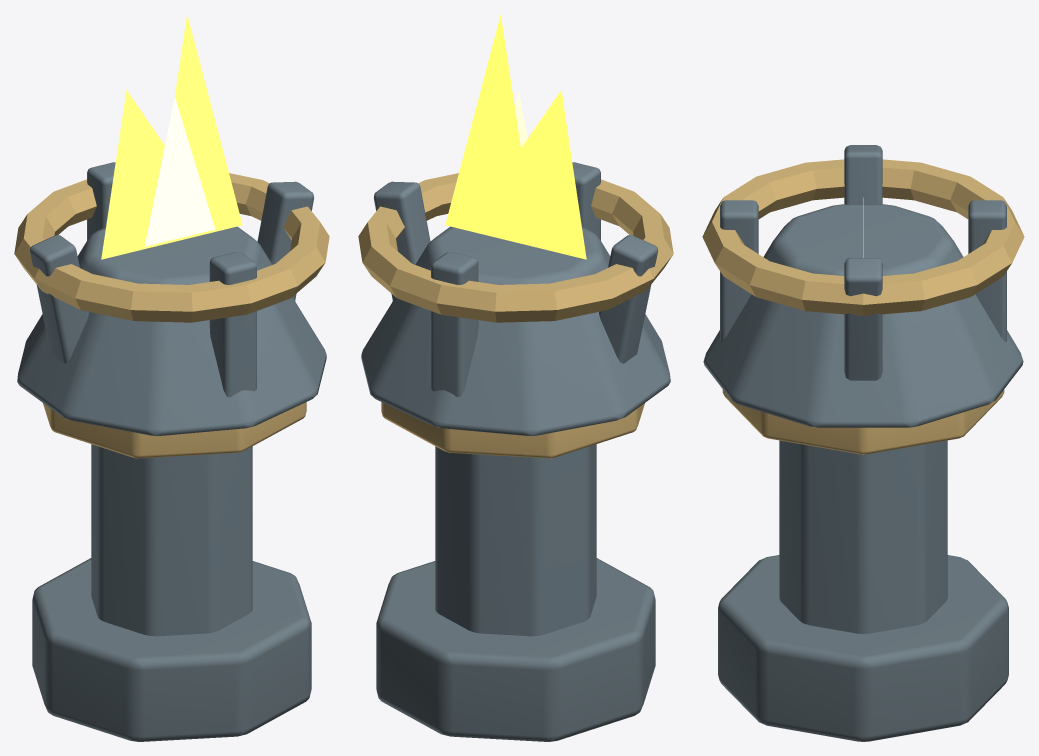
The model's file is SM_CampBrazier_01.fbx.
3 views of the same model, side by side, from view 1: azimuth 30°, elevation 25°; view 2: azimuth 150°, elevation 25°; view 3: azimuth 270°, elevation 25° (orthographic).
Visible parts, largest first — view 1: SM_CampBrazier_01; view 2: SM_CampBrazier_01; view 3: SM_CampBrazier_01.
Boxes of the visible parts, left/top/right/bottom form: SM_CampBrazier_01: left=14, top=14, right=329, bottom=741; SM_CampBrazier_01: left=358, top=14, right=673, bottom=741; SM_CampBrazier_01: left=702, top=145, right=1024, bottom=741.
Bounding box in the file's own units: 1.09 × 2.53 × 1.09.
